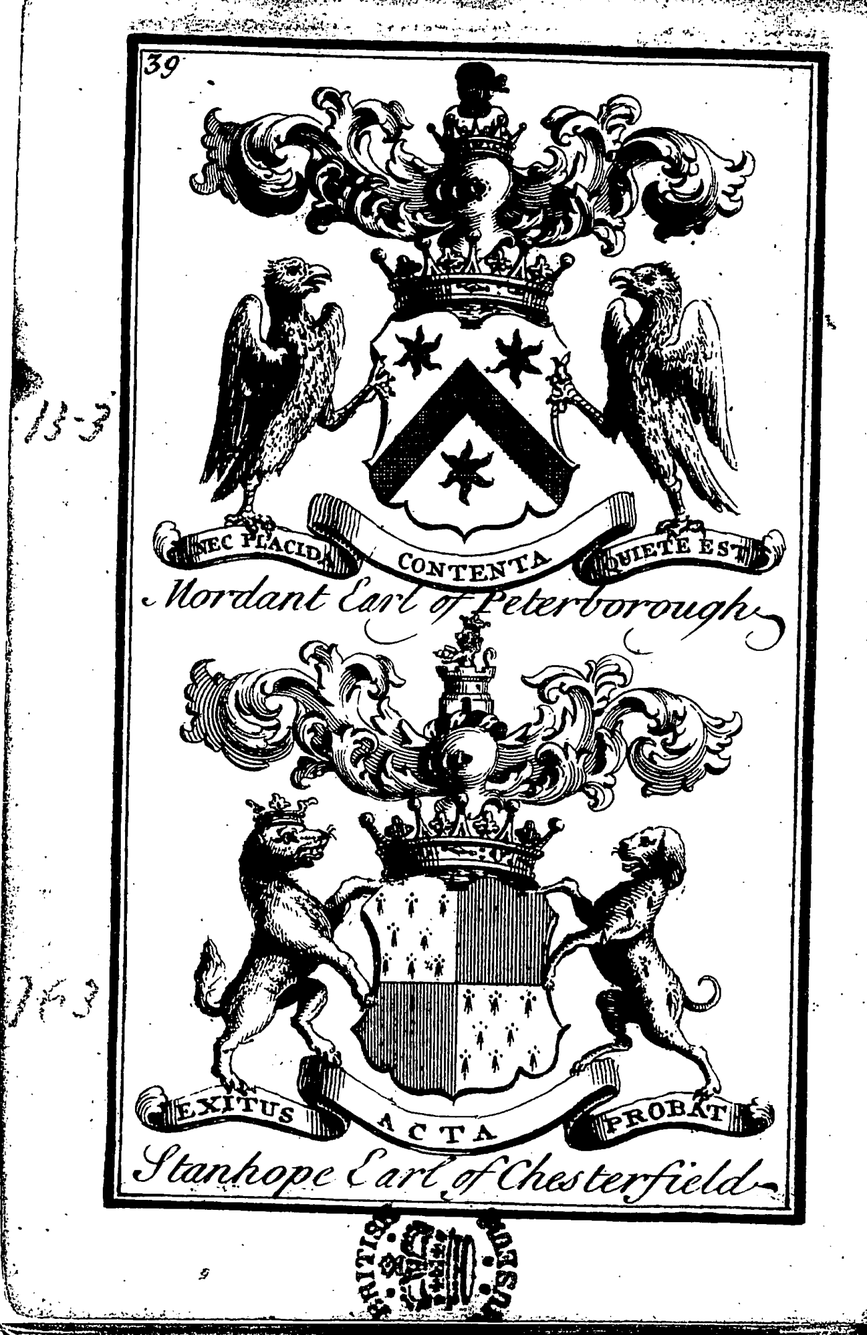coat_of_arms: (162, 75, 783, 637), (165, 635, 780, 1200)
